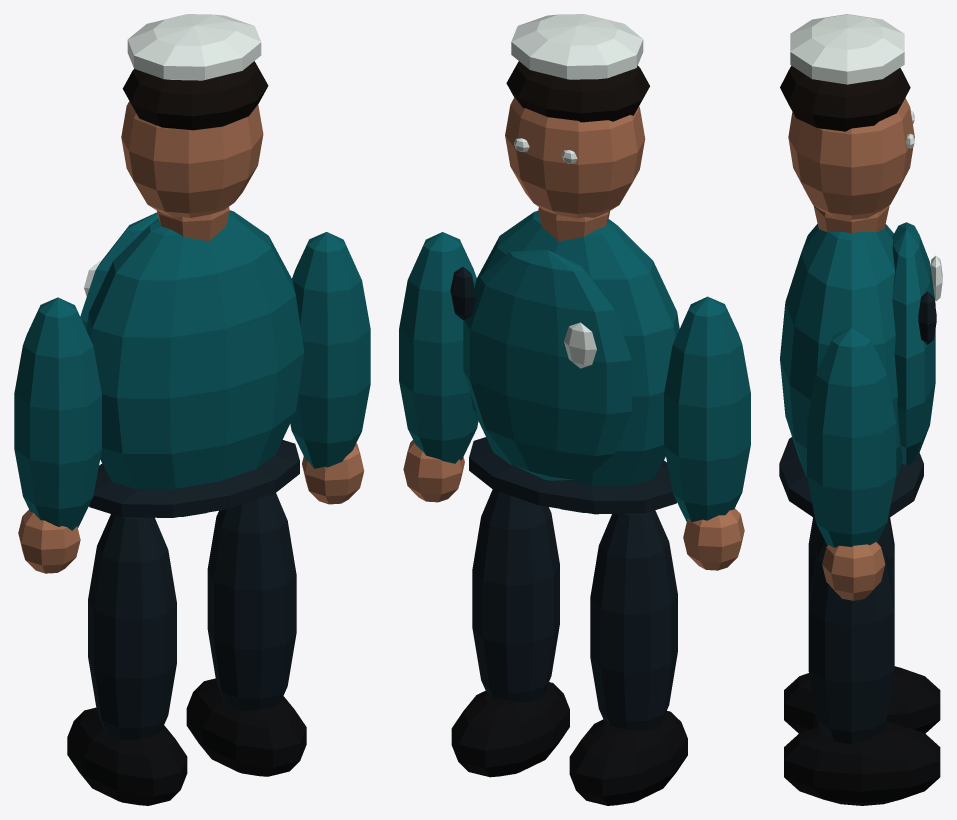
File: ems.obj
3 views of the same model, side by side, from view 1: azimuth 30°, elevation 25°; view 2: azimuth 150°, elevation 25°; view 3: azimuth 270°, elevation 25° (orthographic). The views are drawn at different scales.
Visible parts, largest first — view 1: torso, left_leg, right_leg, left_arm, right_arm, head, left_boot, right_boot, ems_cap, belt, hair, left_hand (+3 smaller); view 2: vest_front, left_leg, torso, right_leg, left_arm, right_arm, head, left_boot, right_boot, ems_cap, belt, hair (+5 smaller); view 3: right_arm, torso, right_leg, head, right_boot, vest_front, ems_cap, hair, left_boot, right_hand, belt, neck (+3 smaller).
Part boxes in pixels (box(x1,y1,x2,y2)): torso: box(86, 210, 304, 516); left_leg: box(88, 514, 176, 739); right_leg: box(207, 493, 296, 710); left_arm: box(14, 297, 101, 530); right_arm: box(290, 232, 370, 468); head: box(121, 101, 263, 217); left_boot: box(67, 707, 187, 805); right_boot: box(186, 678, 306, 776); ems_cap: box(127, 14, 261, 80); belt: box(89, 440, 299, 517); hair: box(122, 61, 268, 130); left_hand: box(18, 509, 80, 573); vest_front: box(463, 249, 631, 480); left_leg: box(590, 510, 677, 731); torso: box(471, 210, 679, 512); right_leg: box(472, 489, 559, 702); left_arm: box(664, 296, 750, 521); right_arm: box(399, 232, 478, 463); head: box(505, 97, 645, 218); left_boot: box(569, 711, 687, 805); right_boot: box(451, 682, 569, 777); ems_cap: box(511, 14, 643, 79); belt: box(469, 437, 676, 514); hair: box(506, 61, 649, 122); right_arm: box(807, 327, 896, 547); torso: box(780, 224, 903, 476); right_leg: box(808, 537, 894, 744); head: box(788, 98, 914, 219); right_boot: box(784, 721, 940, 805); vest_front: box(892, 222, 935, 464); ems_cap: box(790, 14, 904, 84); hair: box(780, 66, 910, 131); left_boot: box(784, 666, 940, 733); right_hand: box(822, 542, 885, 600); belt: box(779, 437, 923, 518); neck: box(813, 205, 889, 233).
Size of the model in its own units: 0.9186 by 1.95 by 0.3868.
